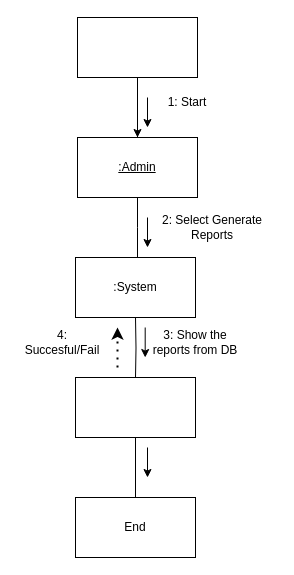
The diagram is 294 pixels wide and 575 high, and some of its shapes have lost their labels. The shapes that lost their labels are listed below. From the top down, each one's centre as x and y in pixels, then its label:
(137,47): Initialization
(135,407): :DB
